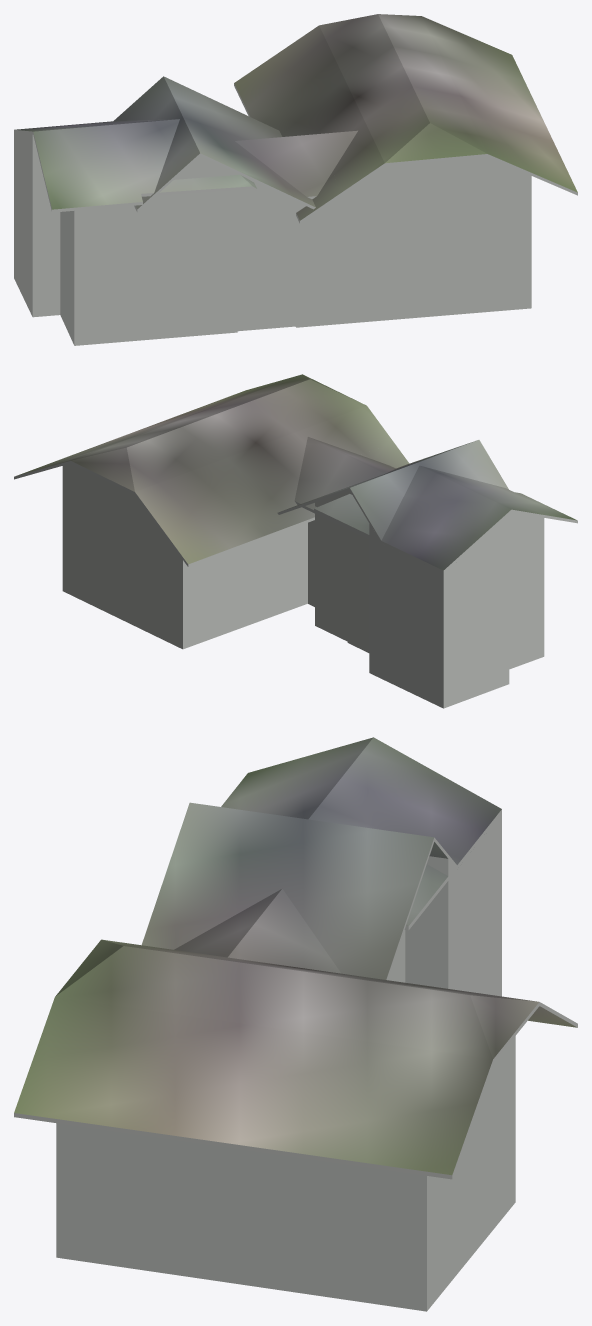
Rendered from LSMM_-1_-1.glb.
The picture shows the model from 3 angles, top to bottom: view 1: azimuth 30°, elevation 25°; view 2: azimuth 150°, elevation 25°; view 3: azimuth 270°, elevation 25°; orthographic projection. The views are drawn at different scales.
Visible parts, largest first — view 1: building_8945887a53d469ce, building_bc1fa99096cac504; view 2: building_8945887a53d469ce, building_bc1fa99096cac504; view 3: building_bc1fa99096cac504, building_8945887a53d469ce.
Boxes of the visible parts, box(x1,y1,x2,y2) form: building_8945887a53d469ce: box(14, 132, 531, 345); building_bc1fa99096cac504: box(14, 14, 577, 223); building_8945887a53d469ce: box(62, 463, 544, 708); building_bc1fa99096cac504: box(14, 374, 577, 573); building_bc1fa99096cac504: box(14, 737, 577, 1179); building_8945887a53d469ce: box(56, 813, 515, 1311).
Size of what is drawn, in the model's own units: 36.97 by 12.53 by 24.36.
Materials: 2 (1 with a texture image).
